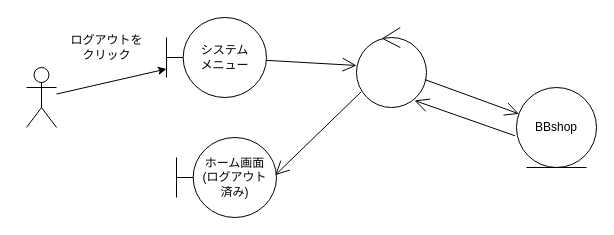
The diagram is 614 pixels wide and 235 high, and some of its shapes have lost their labels. The shapes that lost their labels are listed below. From the top down, each one's centre as x and y in pixels, then its label:
the point at 391,67: 認証処理
the point at 41,97: ユーザー
